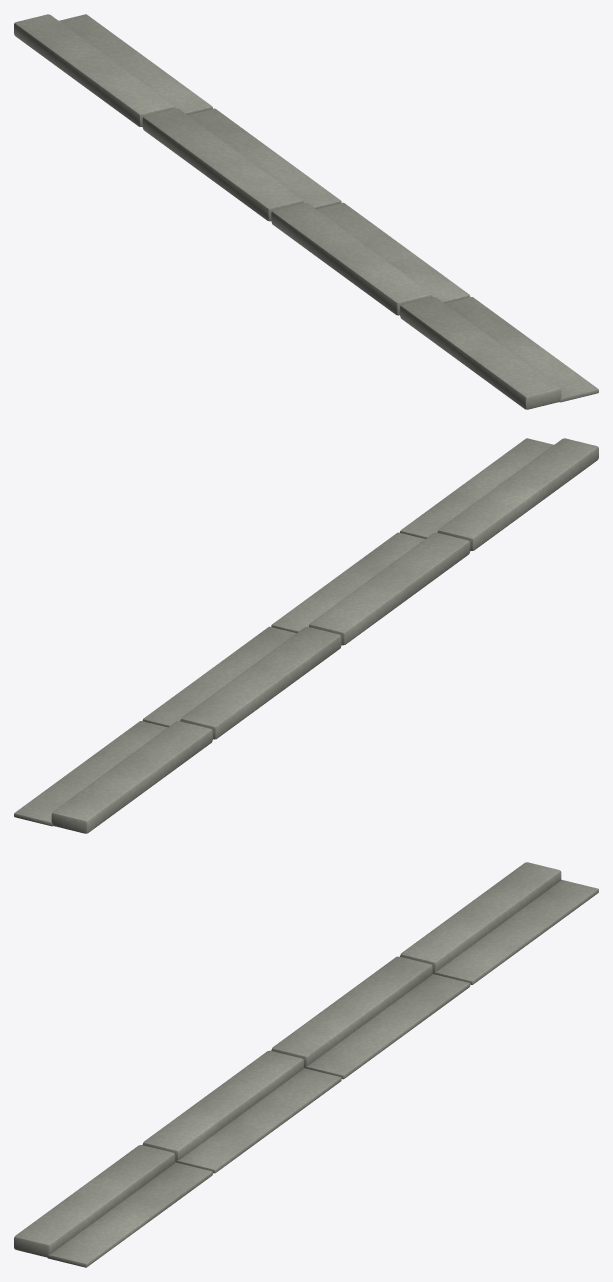
Rendered from CTCC_LOC01_WalkwayCurbRun.fbx.
3 views of the same model, one above another, from view 1: azimuth 30°, elevation 25°; view 2: azimuth 150°, elevation 25°; view 3: azimuth 330°, elevation 25° (orthographic).
Visible parts, largest first — view 1: CTCC_LOC01_WalkwayCurbRun_LOD0; view 2: CTCC_LOC01_WalkwayCurbRun_LOD0; view 3: CTCC_LOC01_WalkwayCurbRun_LOD0.
Part boxes in pixels (x1=…): CTCC_LOC01_WalkwayCurbRun_LOD0: x1=14, y1=14, x2=598, y2=409; CTCC_LOC01_WalkwayCurbRun_LOD0: x1=14, y1=438, x2=598, y2=833; CTCC_LOC01_WalkwayCurbRun_LOD0: x1=14, y1=862, x2=598, y2=1267.
Size of what is drawn, in the model's own units: 0.28 by 0.052 by 3.38.
